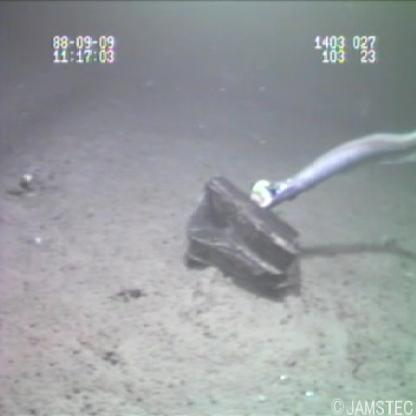Bio: (246, 126, 416, 217)
Rác: (177, 171, 304, 303)
